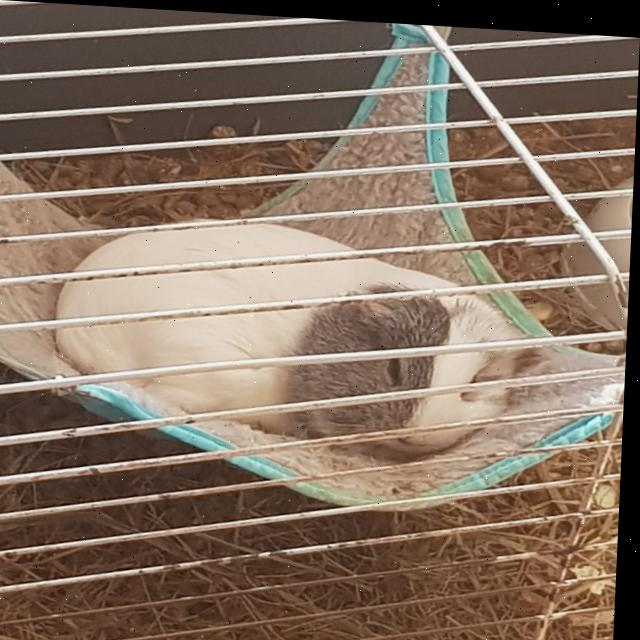guinea pig: (50, 205, 538, 463)
